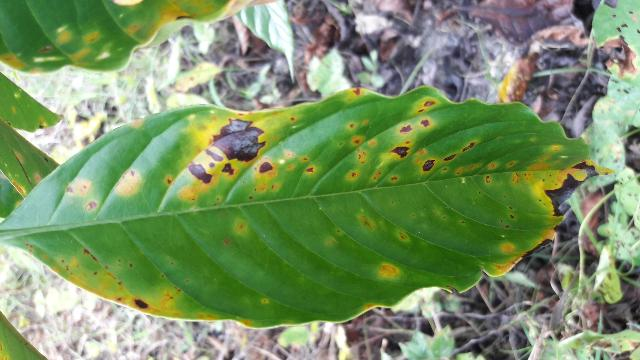rust_level_3: (0, 89, 607, 325)
